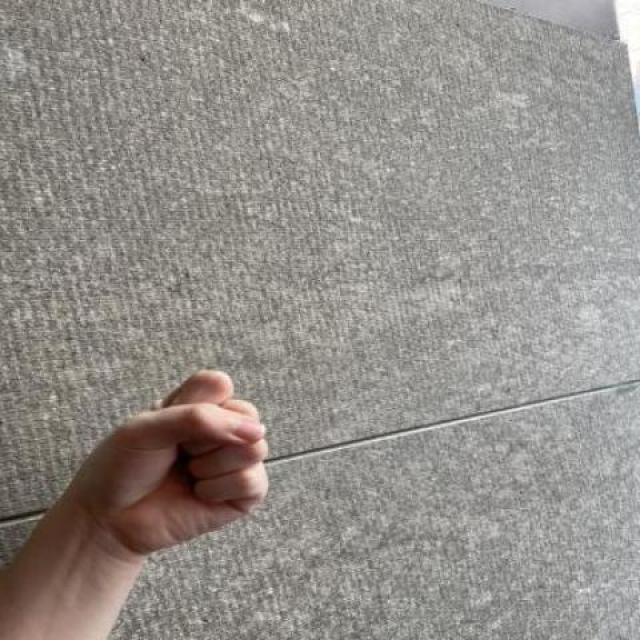Closed Hand: (70, 363, 277, 562)
